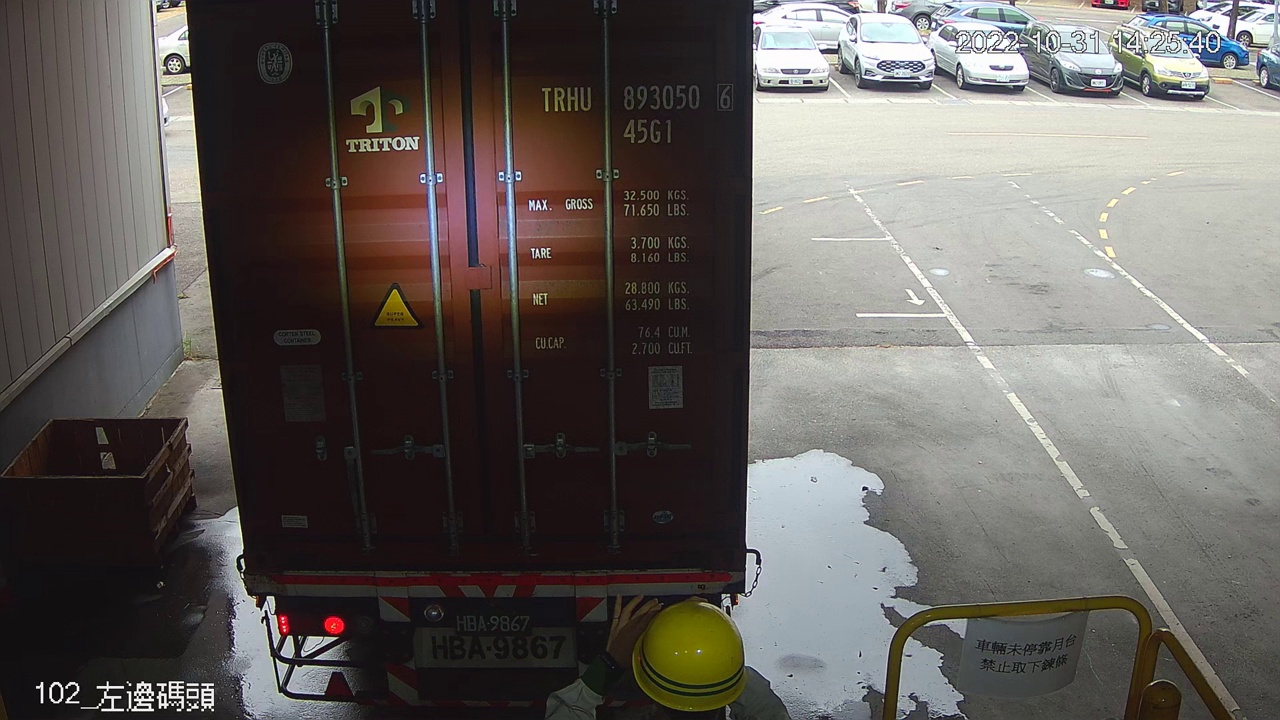container: (528, 74, 739, 151)
